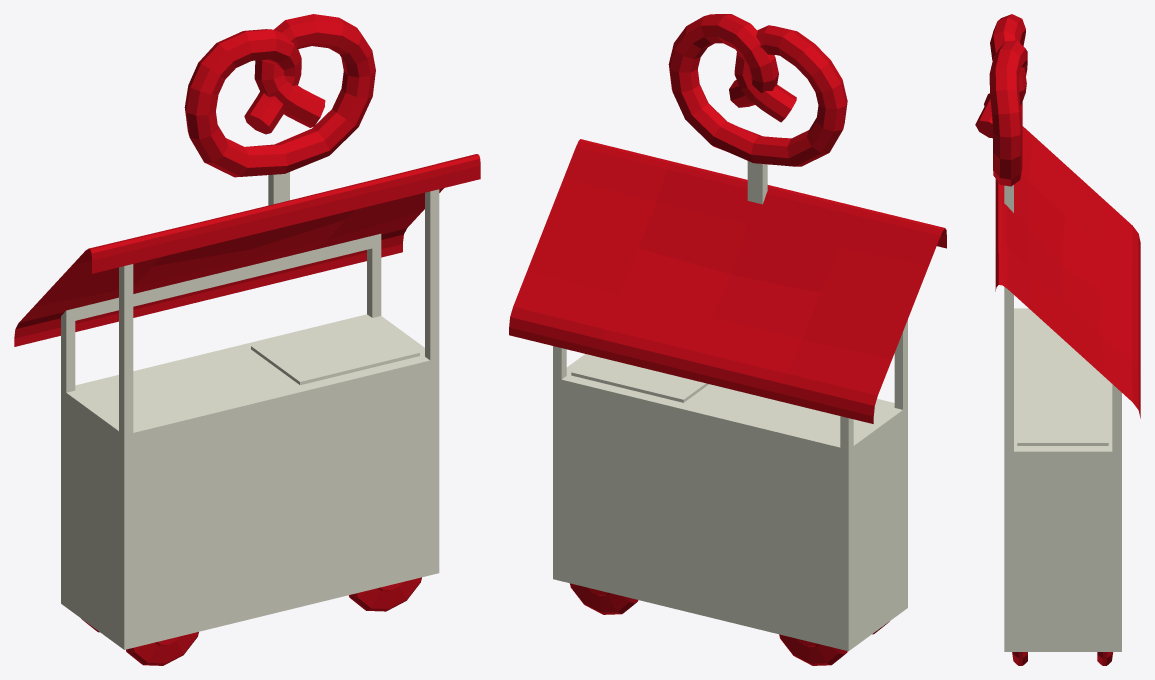
File: PretzelStand.fbx
3 views of the same model, side by side, from view 1: azimuth 30°, elevation 25°; view 2: azimuth 150°, elevation 25°; view 3: azimuth 270°, elevation 25° (orthographic). The views are drawn at different scales.
Parts seen in each view (by area): view 1: PretzelStand, Plane003, Pretzel, PretzelStand_Wheel001, PretzelStand_Wheel002; view 2: PretzelStand, Plane003, Pretzel, PretzelStand_Wheel004, PretzelStand_Wheel003; view 3: PretzelStand, Plane003, Pretzel.
Part boxes in pixels (bbox=[...]): PretzelStand: bbox=[61, 172, 439, 649]; Plane003: bbox=[14, 154, 480, 346]; Pretzel: bbox=[184, 14, 375, 177]; PretzelStand_Wheel001: bbox=[126, 632, 198, 665]; PretzelStand_Wheel002: bbox=[349, 577, 421, 611]; PretzelStand: bbox=[553, 161, 907, 651]; Plane003: bbox=[509, 139, 946, 423]; Pretzel: bbox=[668, 14, 847, 166]; PretzelStand_Wheel004: bbox=[779, 634, 847, 665]; PretzelStand_Wheel003: bbox=[570, 583, 638, 614]; PretzelStand: bbox=[1004, 185, 1121, 651]; Plane003: bbox=[995, 126, 1140, 418]; Pretzel: bbox=[975, 14, 1027, 186].
Bounding box in the file's own units: 1234 × 1880 × 488.
